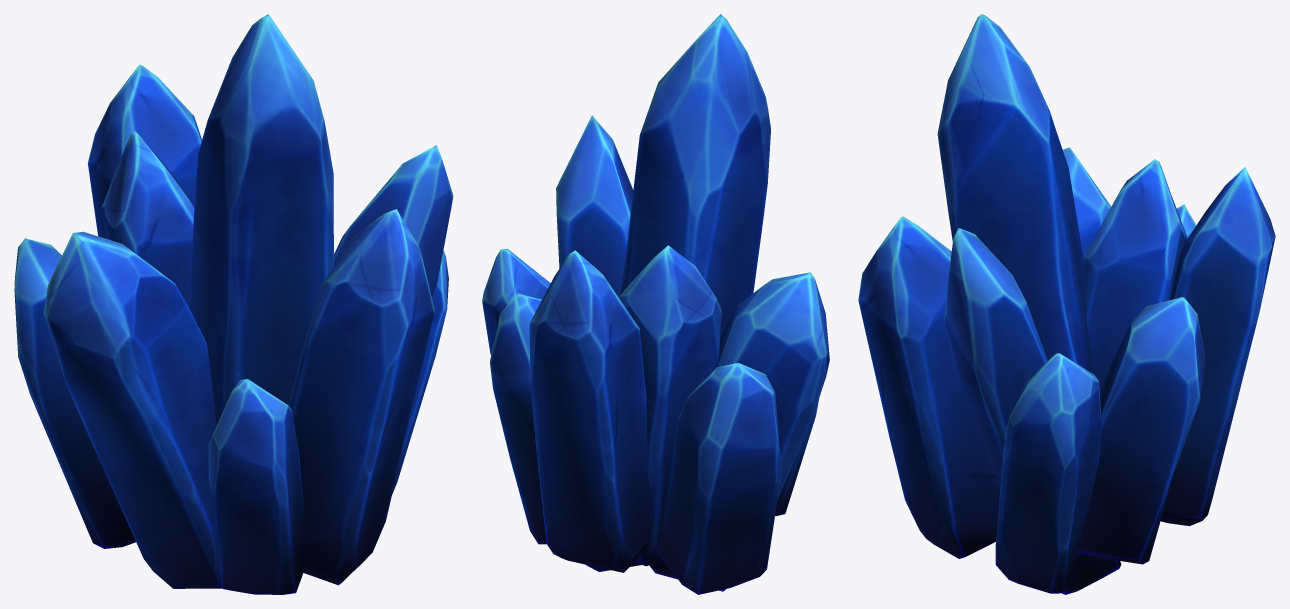
Rendered from SM_Gem_Sapphire_007.fbx.
3 views of the same model, side by side, from view 1: azimuth 30°, elevation 25°; view 2: azimuth 150°, elevation 25°; view 3: azimuth 270°, elevation 25° (orthographic). The views are drawn at different scales.
Visible parts, largest first — view 1: SM_Gem_Sapphire_007; view 2: SM_Gem_Sapphire_007; view 3: SM_Gem_Sapphire_007.
Part boxes in pixels (x1,y1,x2,y2): SM_Gem_Sapphire_007: (14, 14, 453, 594); SM_Gem_Sapphire_007: (482, 14, 829, 594); SM_Gem_Sapphire_007: (858, 14, 1275, 594).
Bounding box in the file's own units: 57.2 × 83.84 × 58.53.
